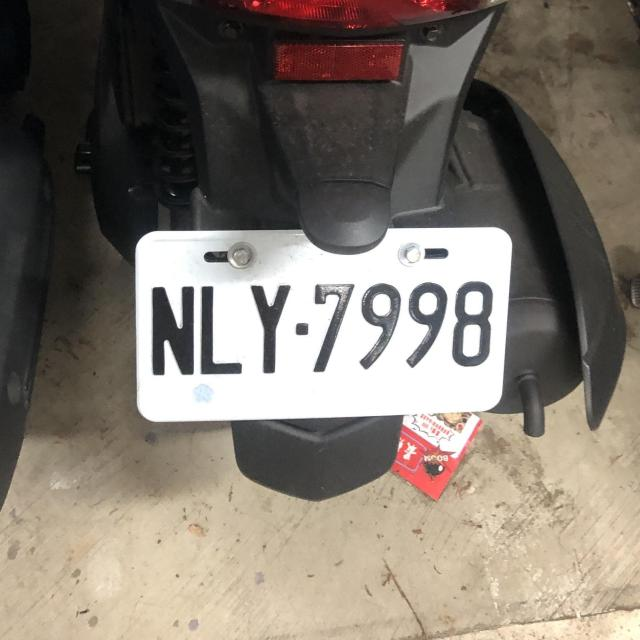W: (122, 216, 517, 433)
